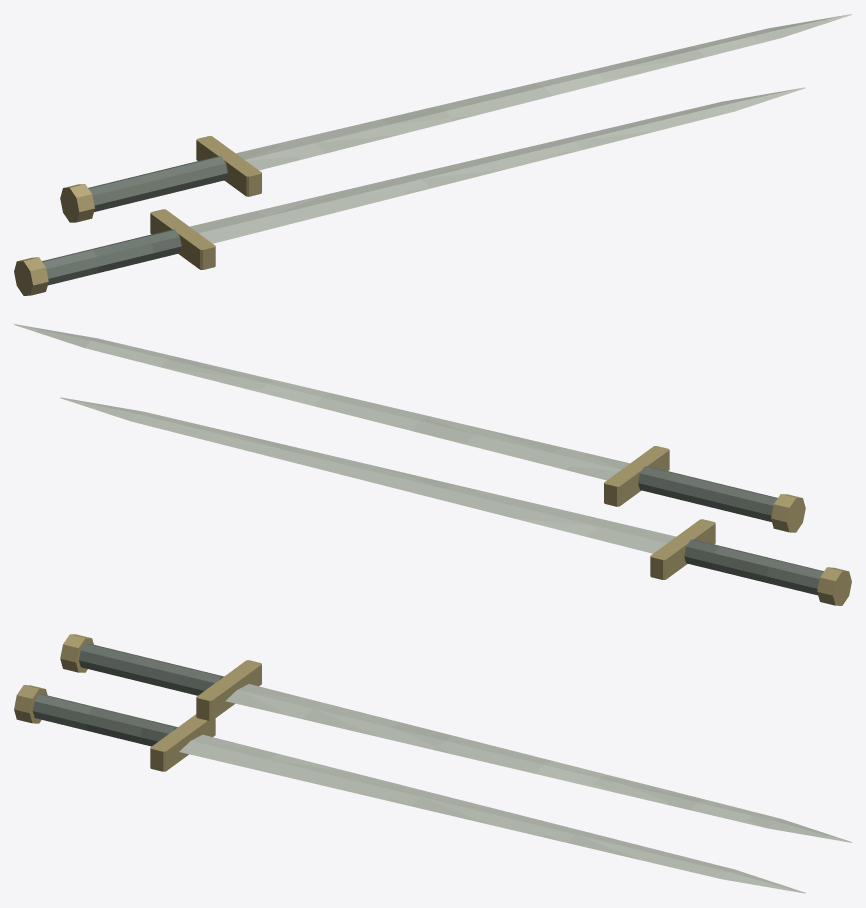
File: weapon-jian.glb
3 renders of one model, top to bottom at view 1: azimuth 30°, elevation 25°; view 2: azimuth 150°, elevation 25°; view 3: azimuth 330°, elevation 25°, orthographic.
Parts seen in each view (by area): view 1: weapon-jian/faceted-distinct-blade-first, weapon-jian/faceted-distinct-blade-second, weapon-jian/eight-sided-handle-first, weapon-jian/eight-sided-handle-second, weapon-jian/transverse-crossguard-first, weapon-jian/transverse-crossguard-second, weapon-jian/handle-end-pommel-first, weapon-jian/handle-end-pommel-second; view 2: weapon-jian/faceted-distinct-blade-first, weapon-jian/faceted-distinct-blade-second, weapon-jian/eight-sided-handle-first, weapon-jian/eight-sided-handle-second, weapon-jian/transverse-crossguard-first, weapon-jian/transverse-crossguard-second, weapon-jian/handle-end-pommel-first, weapon-jian/handle-end-pommel-second; view 3: weapon-jian/faceted-distinct-blade-first, weapon-jian/faceted-distinct-blade-second, weapon-jian/eight-sided-handle-second, weapon-jian/eight-sided-handle-first, weapon-jian/transverse-crossguard-first, weapon-jian/transverse-crossguard-second, weapon-jian/handle-end-pommel-first, weapon-jian/handle-end-pommel-second.
Part boxes in pixels (box(x1,y1,x2,y2)): weapon-jian/faceted-distinct-blade-first: box(236, 14, 851, 170); weapon-jian/faceted-distinct-blade-second: box(190, 87, 805, 243); weapon-jian/eight-sided-handle-first: box(88, 156, 227, 211); weapon-jian/eight-sided-handle-second: box(42, 229, 181, 285); weapon-jian/transverse-crossguard-first: box(196, 136, 261, 196); weapon-jian/transverse-crossguard-second: box(150, 209, 215, 269); weapon-jian/handle-end-pommel-first: box(60, 184, 94, 222); weapon-jian/handle-end-pommel-second: box(14, 257, 48, 295); weapon-jian/faceted-distinct-blade-first: box(14, 324, 629, 480); weapon-jian/faceted-distinct-blade-second: box(60, 397, 675, 553); weapon-jian/eight-sided-handle-first: box(638, 466, 777, 521); weapon-jian/eight-sided-handle-second: box(684, 539, 823, 595); weapon-jian/transverse-crossguard-first: box(604, 446, 669, 506); weapon-jian/transverse-crossguard-second: box(650, 519, 715, 579); weapon-jian/handle-end-pommel-first: box(771, 494, 805, 532); weapon-jian/handle-end-pommel-second: box(817, 567, 851, 605); weapon-jian/faceted-distinct-blade-first: box(225, 684, 851, 842); weapon-jian/faceted-distinct-blade-second: box(179, 734, 805, 893); weapon-jian/eight-sided-handle-second: box(32, 694, 177, 746); weapon-jian/eight-sided-handle-first: box(79, 643, 223, 695); weapon-jian/transverse-crossguard-first: box(196, 660, 261, 720); weapon-jian/transverse-crossguard-second: box(150, 714, 215, 771); weapon-jian/handle-end-pommel-first: box(60, 634, 93, 672); weapon-jian/handle-end-pommel-second: box(14, 685, 47, 723).
Bounding box in the file's own units: 0.95 × 0.106 × 0.103.
Materials: 3 (3 with a texture image).
